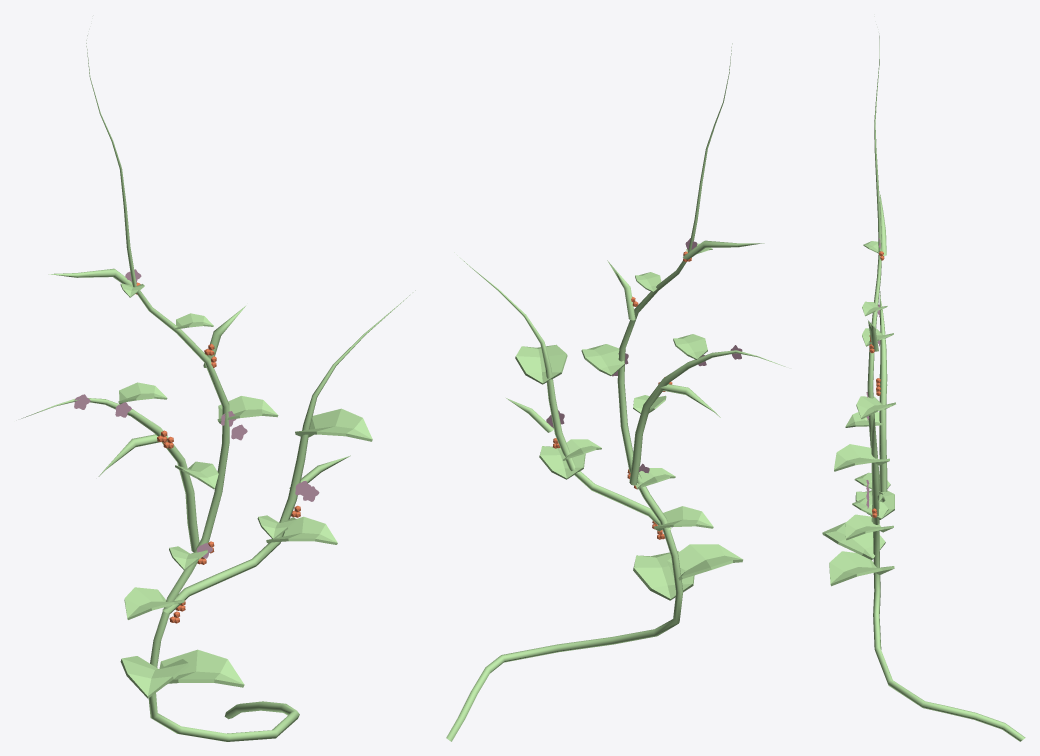
File: Level3.1.fbx
3 renders of one model, left to right at view 1: azimuth 30°, elevation 25°; view 2: azimuth 150°, elevation 25°; view 3: azimuth 270°, elevation 25°, orthographic. The views are drawn at different scales.
Parts seen in each view (by area): view 1: Stem1.001, Stem1.002, Leaf1.003, Stem1.004, Leaf1.005, Leaf1.012, Leaf1.002, Leaf1.001, Leaf1.013, Berries.010, Leaf1.010; view 2: Stem1.001, Stem1.002, Leaf1.003, Leaf1.005, Stem1.004, Leaf1.012, Leaf1.013, Leaf1.001, Leaf1.002, Leaf1.010; view 3: Stem1.001, Stem1.004, Leaf1.003, Leaf1.005, Leaf1.012, Leaf1.002, Stem1.002, Leaf1.013, Leaf1.001.
Boxes of the visible parts, <box> form: Stem1.001: <box>86,35,299,741</box>; Stem1.002: <box>162,290,415,613</box>; Leaf1.003: <box>159,649,244,687</box>; Stem1.004: <box>21,398,199,552</box>; Leaf1.005: <box>120,656,189,698</box>; Leaf1.012: <box>295,408,372,441</box>; Leaf1.002: <box>266,516,337,544</box>; Leaf1.001: <box>124,587,184,619</box>; Leaf1.013: <box>217,396,278,423</box>; Berries.010: <box>136,282,300,623</box>; Leaf1.010: <box>118,382,167,404</box>; Stem1.001: <box>446,43,732,741</box>; Stem1.002: <box>454,252,671,530</box>; Leaf1.003: <box>633,551,694,600</box>; Leaf1.005: <box>667,544,743,580</box>; Stem1.004: <box>629,350,785,485</box>; Leaf1.012: <box>515,344,567,384</box>; Leaf1.013: <box>581,344,624,375</box>; Leaf1.001: <box>654,506,713,531</box>; Leaf1.002: <box>539,446,585,479</box>; Leaf1.010: <box>673,334,707,359</box>; Stem1.001: <box>867,35,1025,741</box>; Stem1.004: <box>879,291,887,492</box>; Leaf1.003: <box>829,551,894,586</box>; Leaf1.005: <box>822,522,885,559</box>; Leaf1.012: <box>834,444,889,471</box>; Leaf1.002: <box>845,514,893,540</box>; Stem1.002: <box>871,410,879,524</box>; Leaf1.013: <box>856,396,895,419</box>; Leaf1.001: <box>855,490,894,519</box>.
Size of the model in its own units: 1238 by 2461 by 709.
